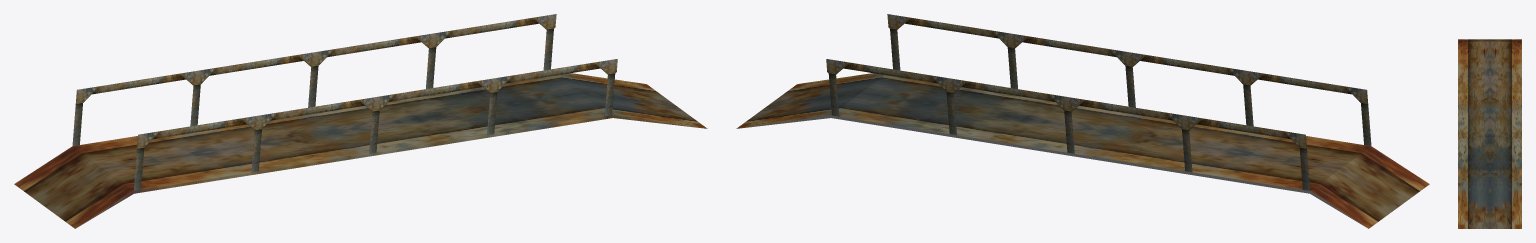
The model's file is M11Z1_Building05_B_Bridge.glb.
3 renders of one model, left to right at view 1: azimuth 30°, elevation 25°; view 2: azimuth 150°, elevation 25°; view 3: azimuth 270°, elevation 25°, orthographic. The views are drawn at different scales.
Visible parts, largest first — view 1: M11Z1_BUILDING05_B_BRIDGE; view 2: M11Z1_BUILDING05_B_BRIDGE; view 3: M11Z1_BUILDING05_B_BRIDGE.
Boxes of the visible parts, x1,y1,x2,y2 form: M11Z1_BUILDING05_B_BRIDGE: (14, 14, 707, 228); M11Z1_BUILDING05_B_BRIDGE: (736, 14, 1429, 228); M11Z1_BUILDING05_B_BRIDGE: (1458, 39, 1521, 228).
Size of the model in its own units: 11.93 by 2.4 by 2.
Materials: 2 (1 with a texture image).
